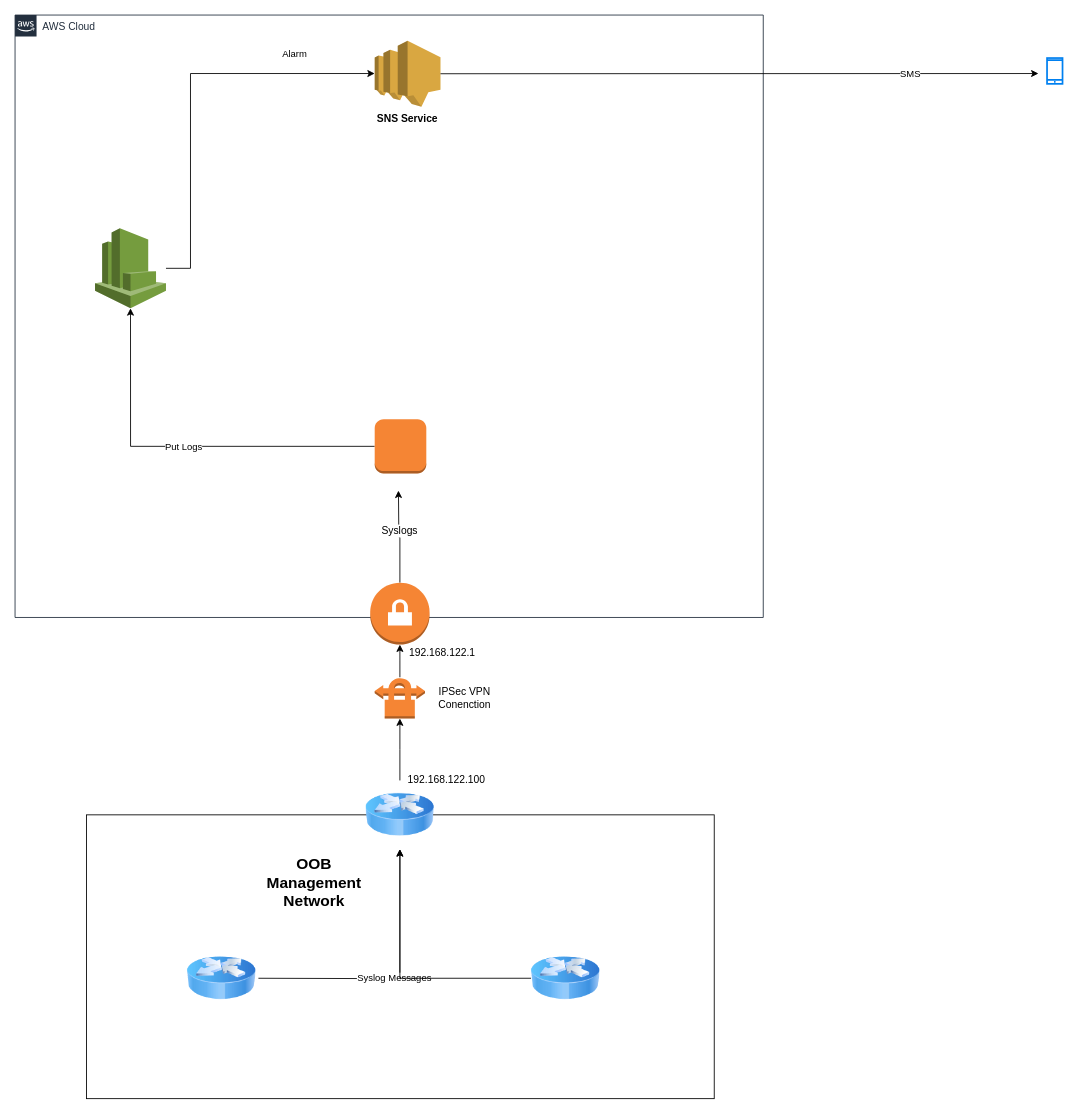
Some shapes in this 1078 by 1114 pixel diagram are drawn without their labels. Each missing label, with the box of its shape:
Local Gateway: (365, 780, 434, 849)
Syslog server instance: (374, 418, 426, 473)
